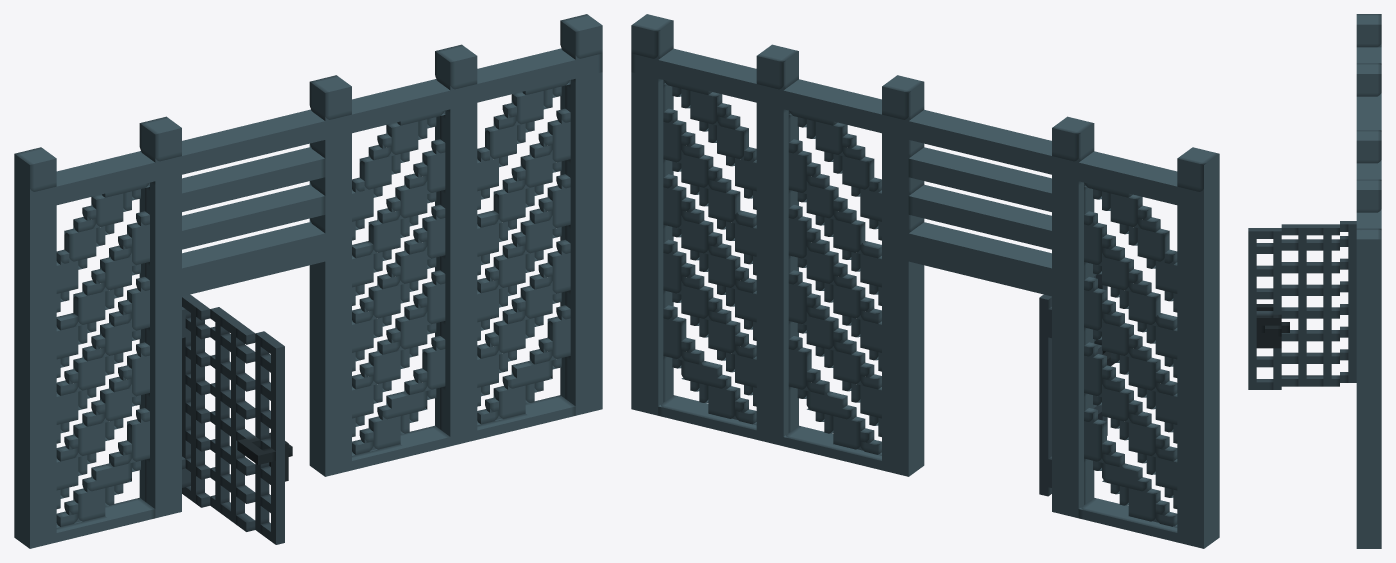
File: plotek_bramka_otwarte.dae
The picture shows the model from 3 angles, left to right: view 1: azimuth 30°, elevation 25°; view 2: azimuth 150°, elevation 25°; view 3: azimuth 270°, elevation 25°; orthographic projection. The views are drawn at different scales.
Parts seen in each view (by area): view 1: Content; view 2: Content; view 3: Content.
Part boxes in pixels (box(x1,y1,x2,y2)): Content: box(14, 14, 602, 548); Content: box(631, 14, 1219, 548); Content: box(1248, 14, 1381, 548).
Bounding box in the file's own units: 64 × 41 × 16.
Materials: 1 (1 with a texture image).
